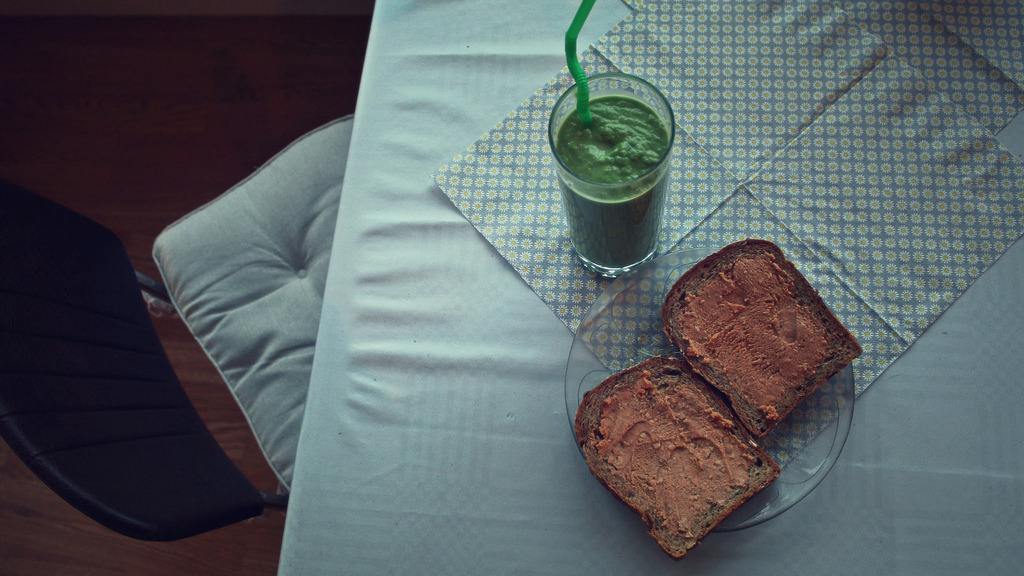slice of bread: (652, 257, 868, 426)
